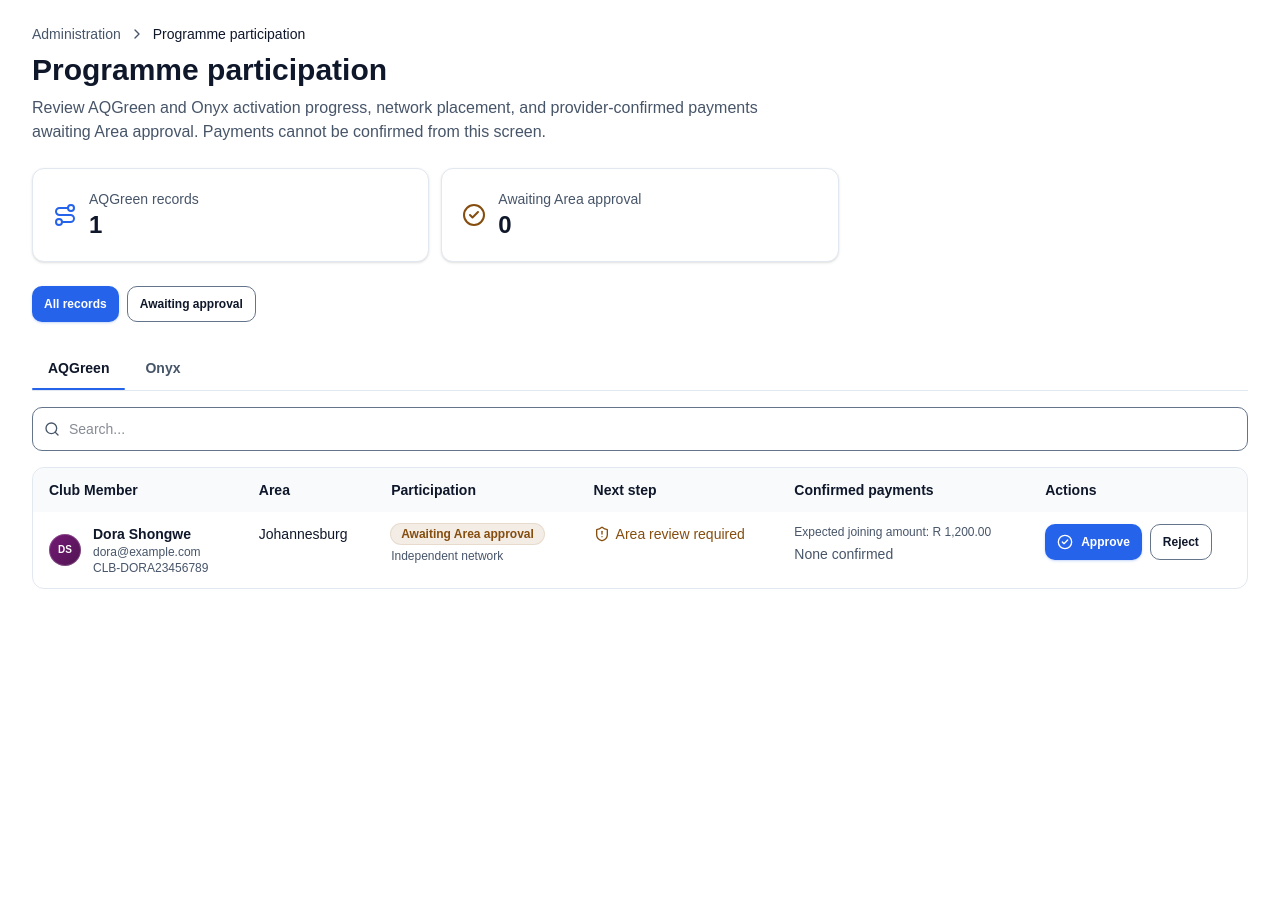
AdminProgrammeParticipations › requires a reason before declining an awaiting participation
Click the button "Reject": (1181, 542) [1150,524,1212,560]
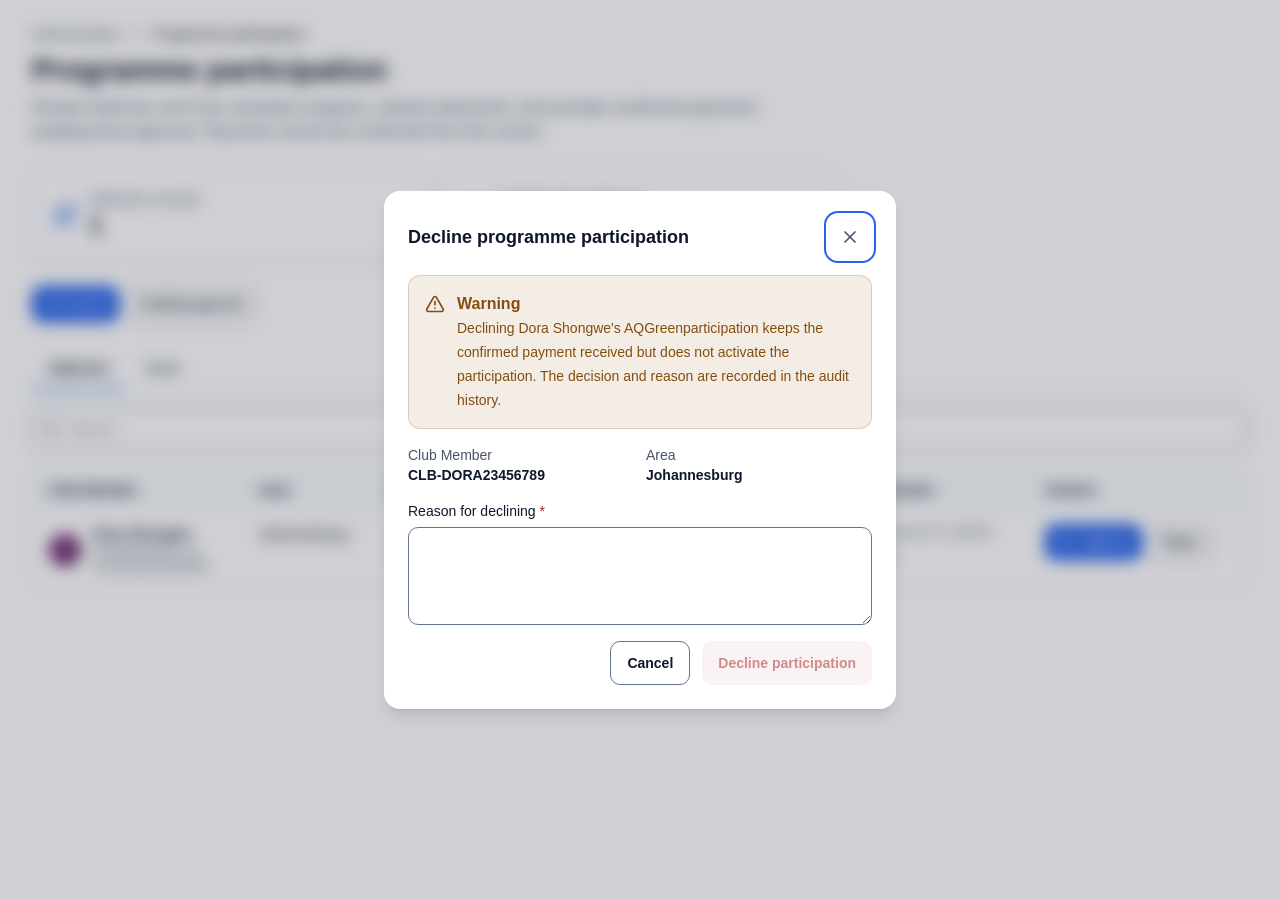
Result: the button "Decline participation" is disabled at [702,641,872,685]
In the text box labelled "Reason for declining": (640, 576) [408,527,872,625], type "Signed joining form does not match the payer"
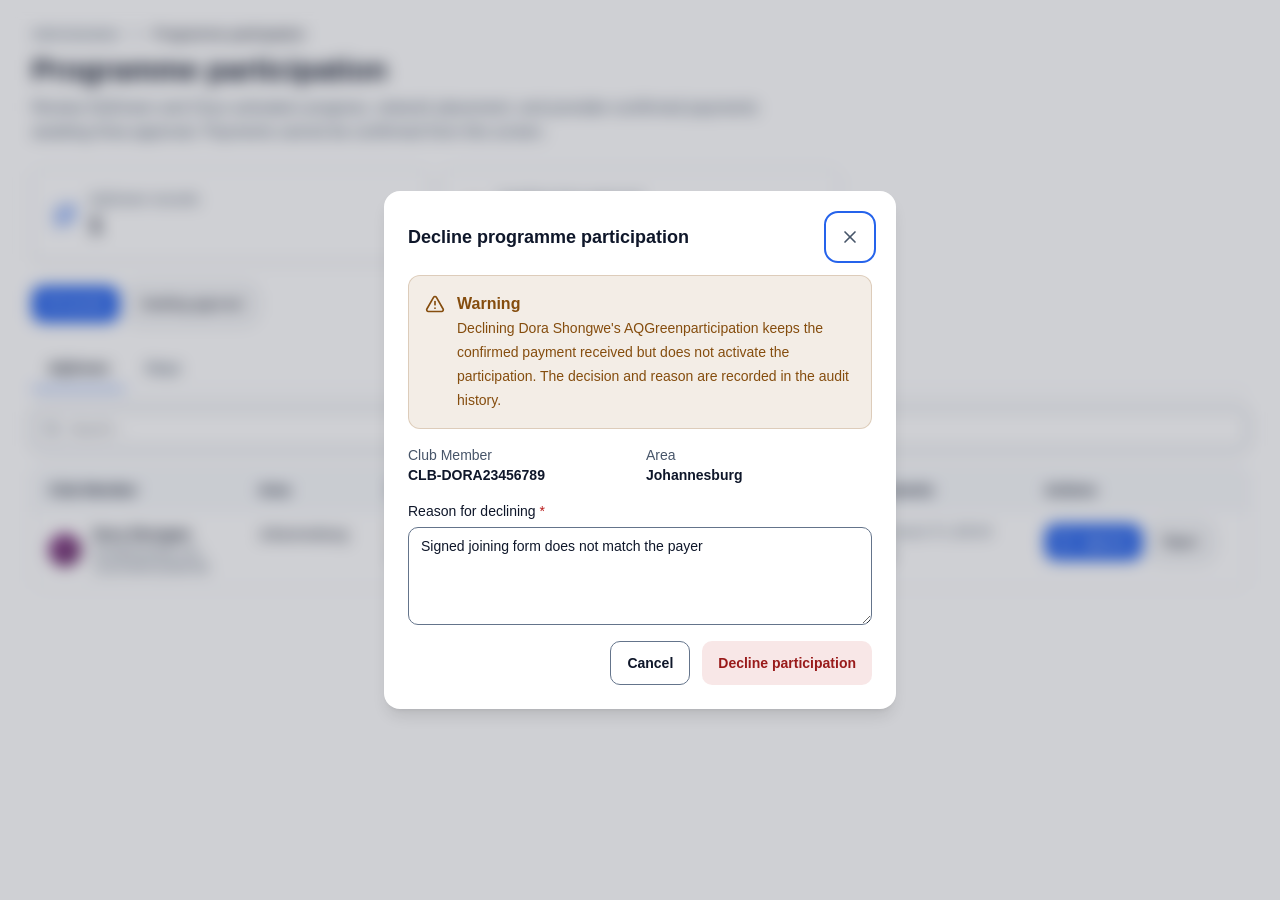
Click the button "Decline participation": (787, 663) [702,641,872,685]
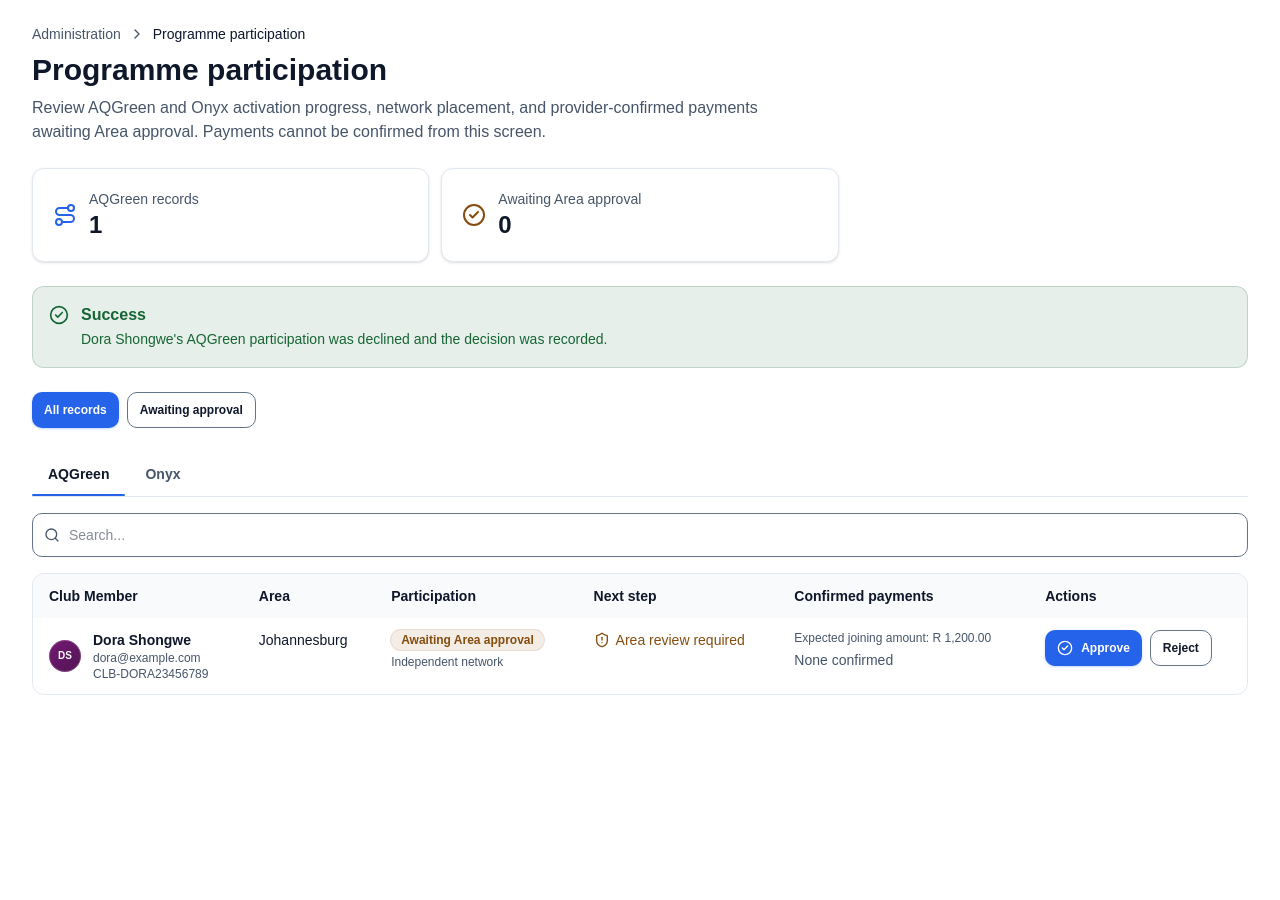
Result: the text "participation was declined" is shown at [81,331,607,347]
